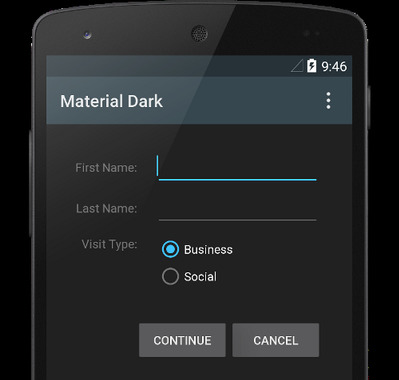_form_: (1, 1, 399, 380), (49, 14, 347, 140)
button: (136, 321, 226, 360)
field: (156, 154, 318, 182)
field_line: (156, 200, 318, 224), (229, 321, 319, 360)
field_line_with_label: (74, 152, 321, 184), (76, 198, 321, 226)
radio: (159, 266, 182, 287), (158, 239, 181, 259)
radio_with_label: (156, 237, 233, 260), (157, 265, 216, 288)
